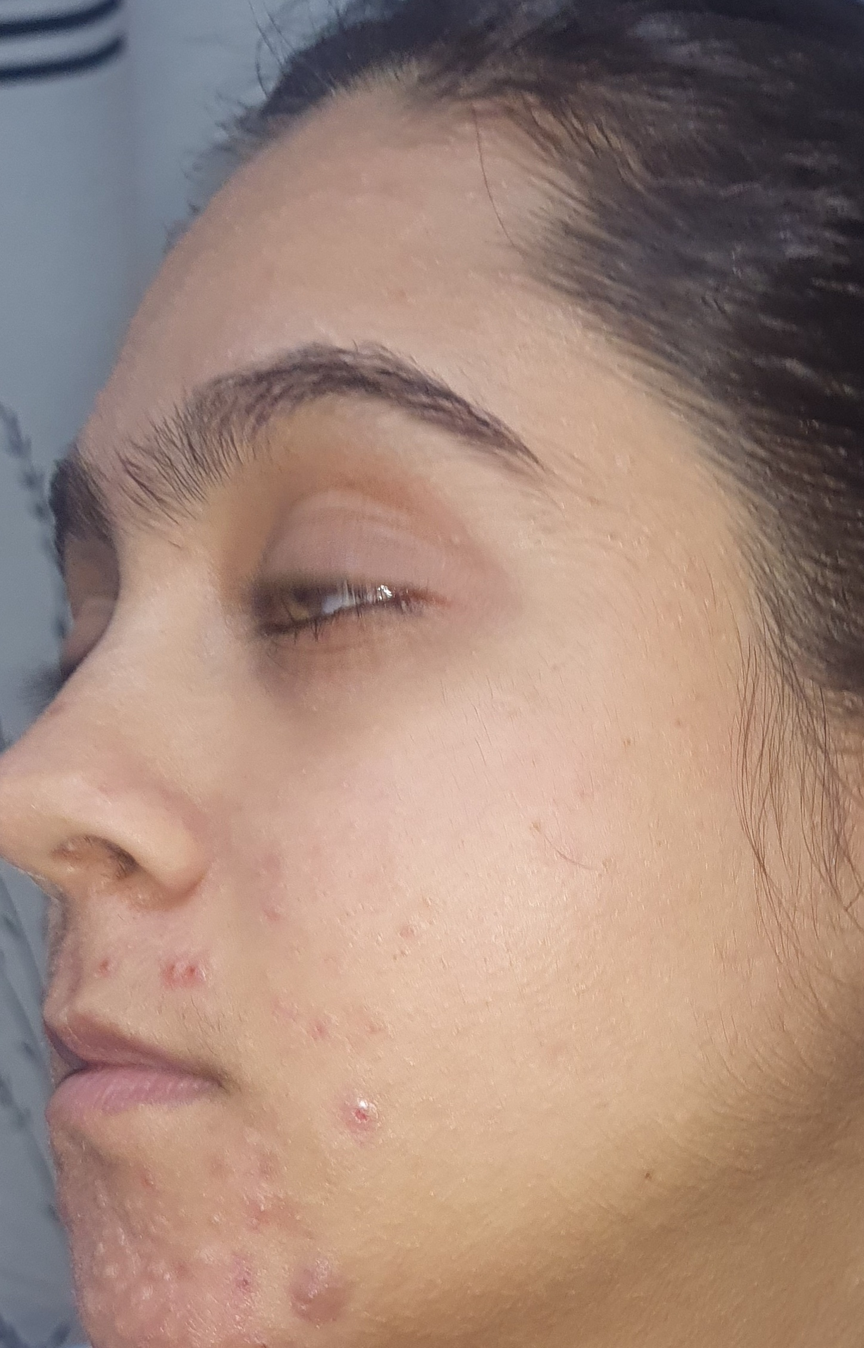papule: (275, 1260, 393, 1338), (124, 1236, 213, 1325), (224, 1175, 304, 1242), (159, 935, 219, 1020)
pustule: (331, 1087, 420, 1156)
